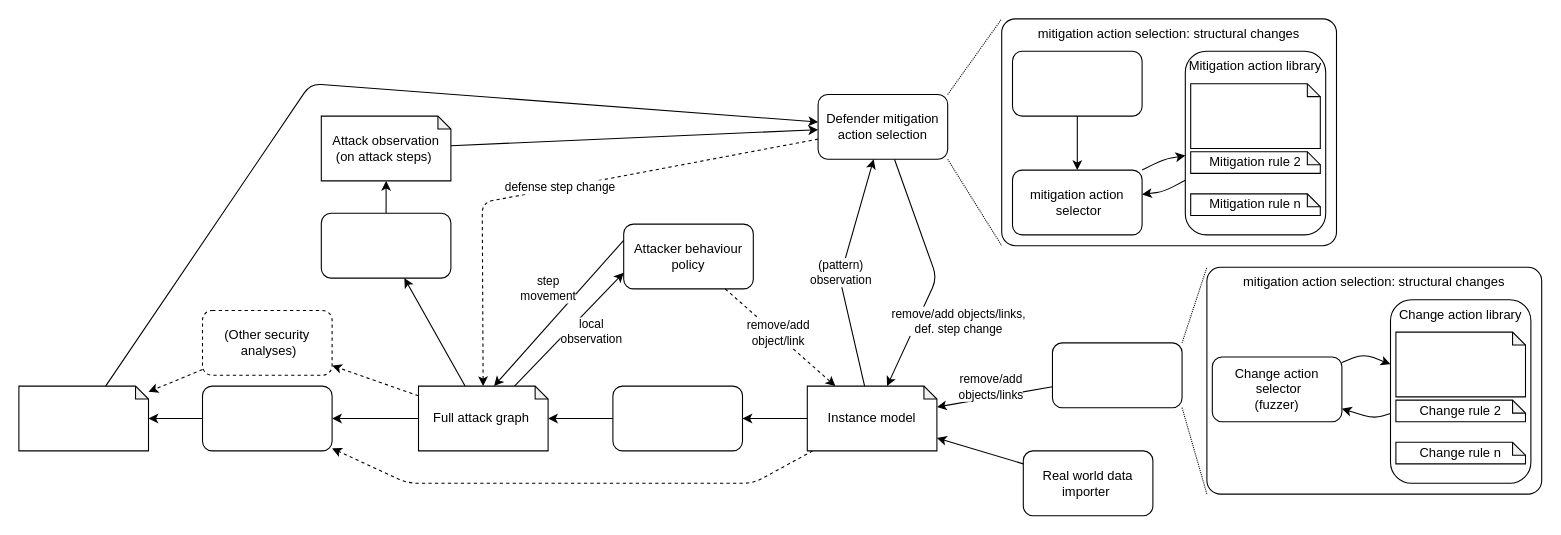
This 1561x535 diagram has some shape labels left out. The centre of each missing label's shape, as x and y in pixels:
Attack graph generator: the point at 677,418
Attack step observability filter: the point at 385,245
Calculated/ pruned attack graph (e.g. shortest path(s)): the point at 83,418
Change rule 1 (Model pattern x --> probabilistic model change y): the point at 1460,364
Global TTC value calculator (e.g. securiCAD): the point at 266,418
Mitigation rule 1 (Bad pattern x --> good pattern y): the point at 1255,115
Training data generator/ manipulator: the point at 1116,375
Weakest spot identifier: the point at 1076,83
